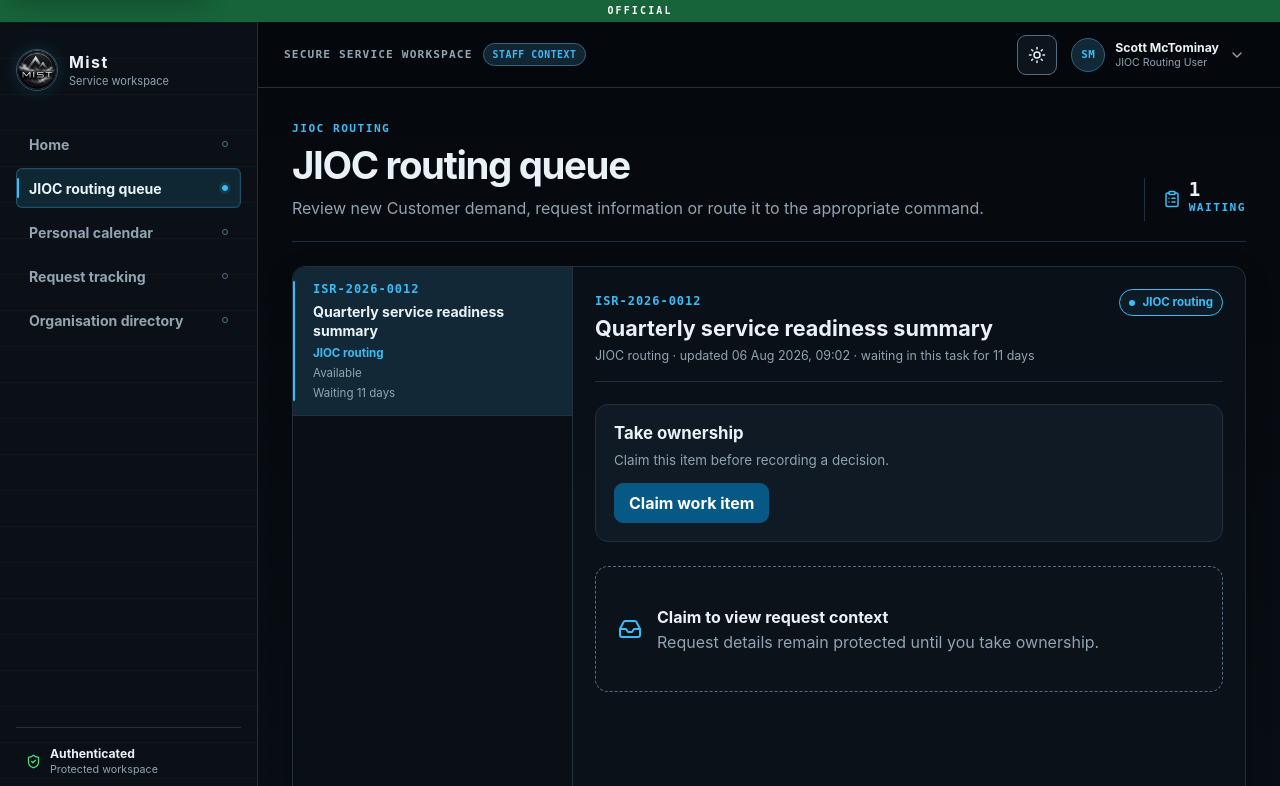
dynamic routing destinations › loads options only after a routing task is claimed by the current user
Click the button "Claim work item": point(692, 503) [614,483,769,523]
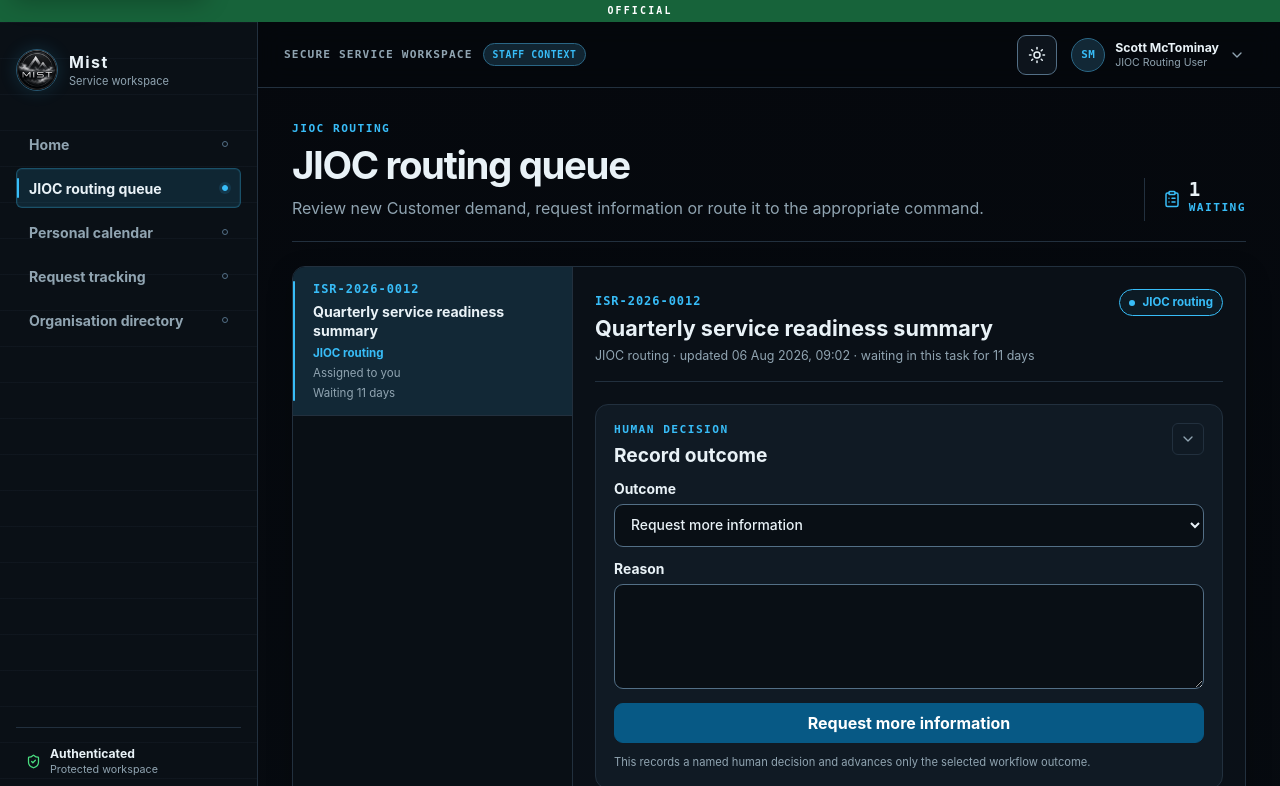
Select "Route to command" in the dropdown labelled "Outcome": point(909, 525) [614,504,1204,547]
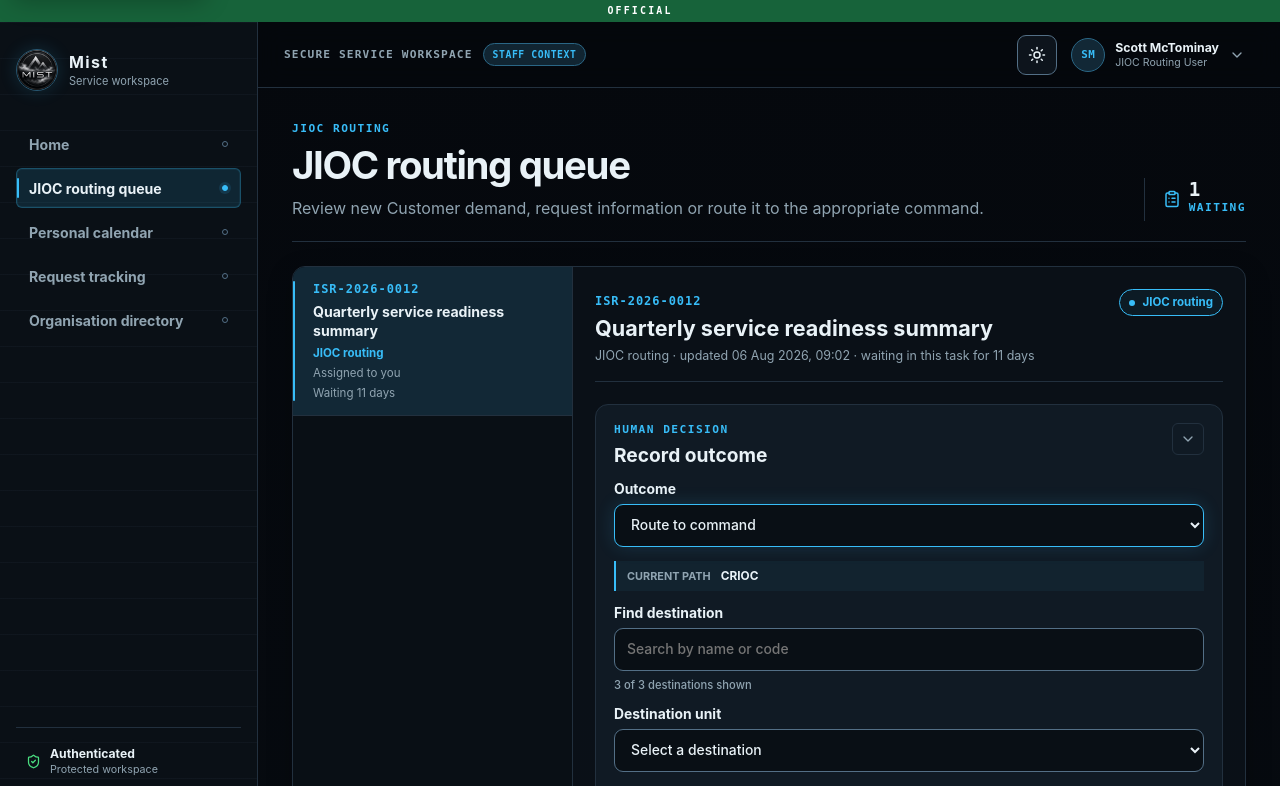
Expected: the navigation bar named "Current routing path" shows "CRIOC", [721,569,758,583]
